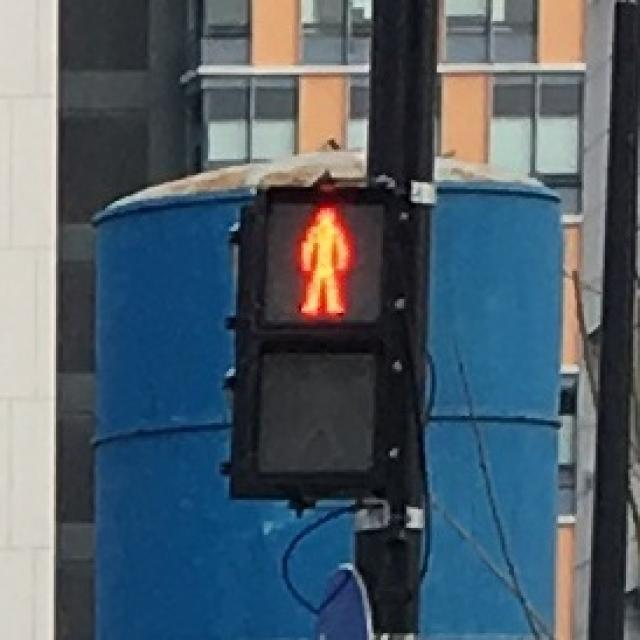red-crossing: (266, 196, 383, 320)
